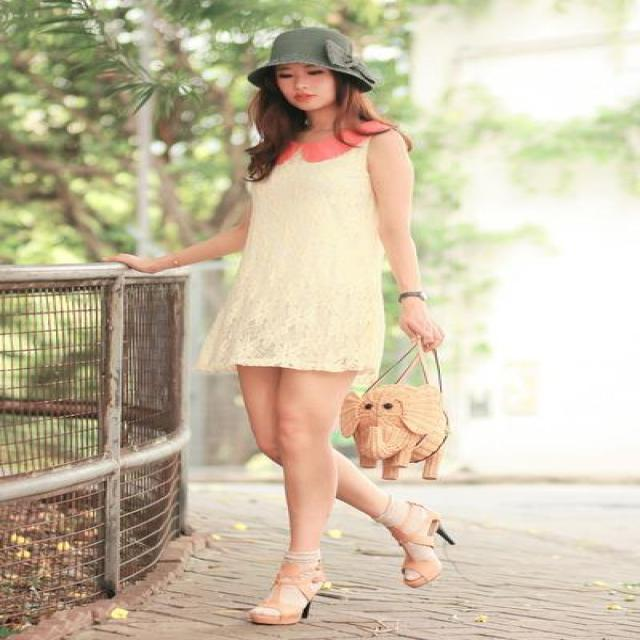bag: (320, 380, 450, 472)
dress: (213, 118, 395, 396)
hat: (250, 29, 372, 88)
shoe: (253, 524, 454, 618)
